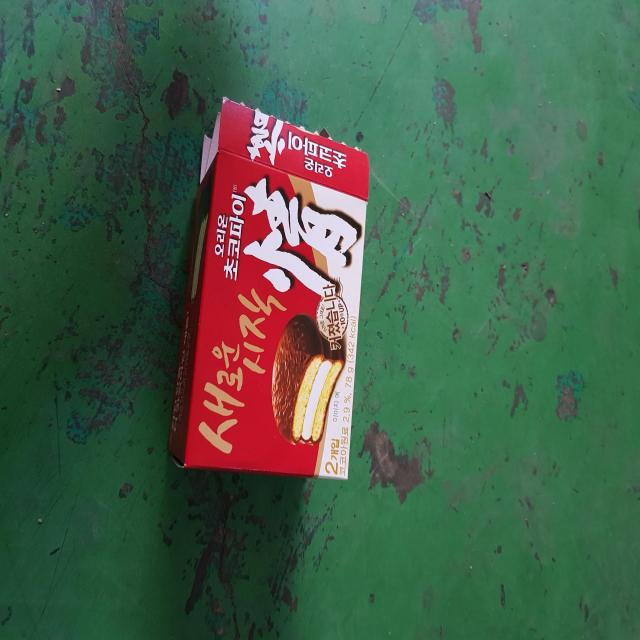paperpack: (167, 99, 369, 479)
